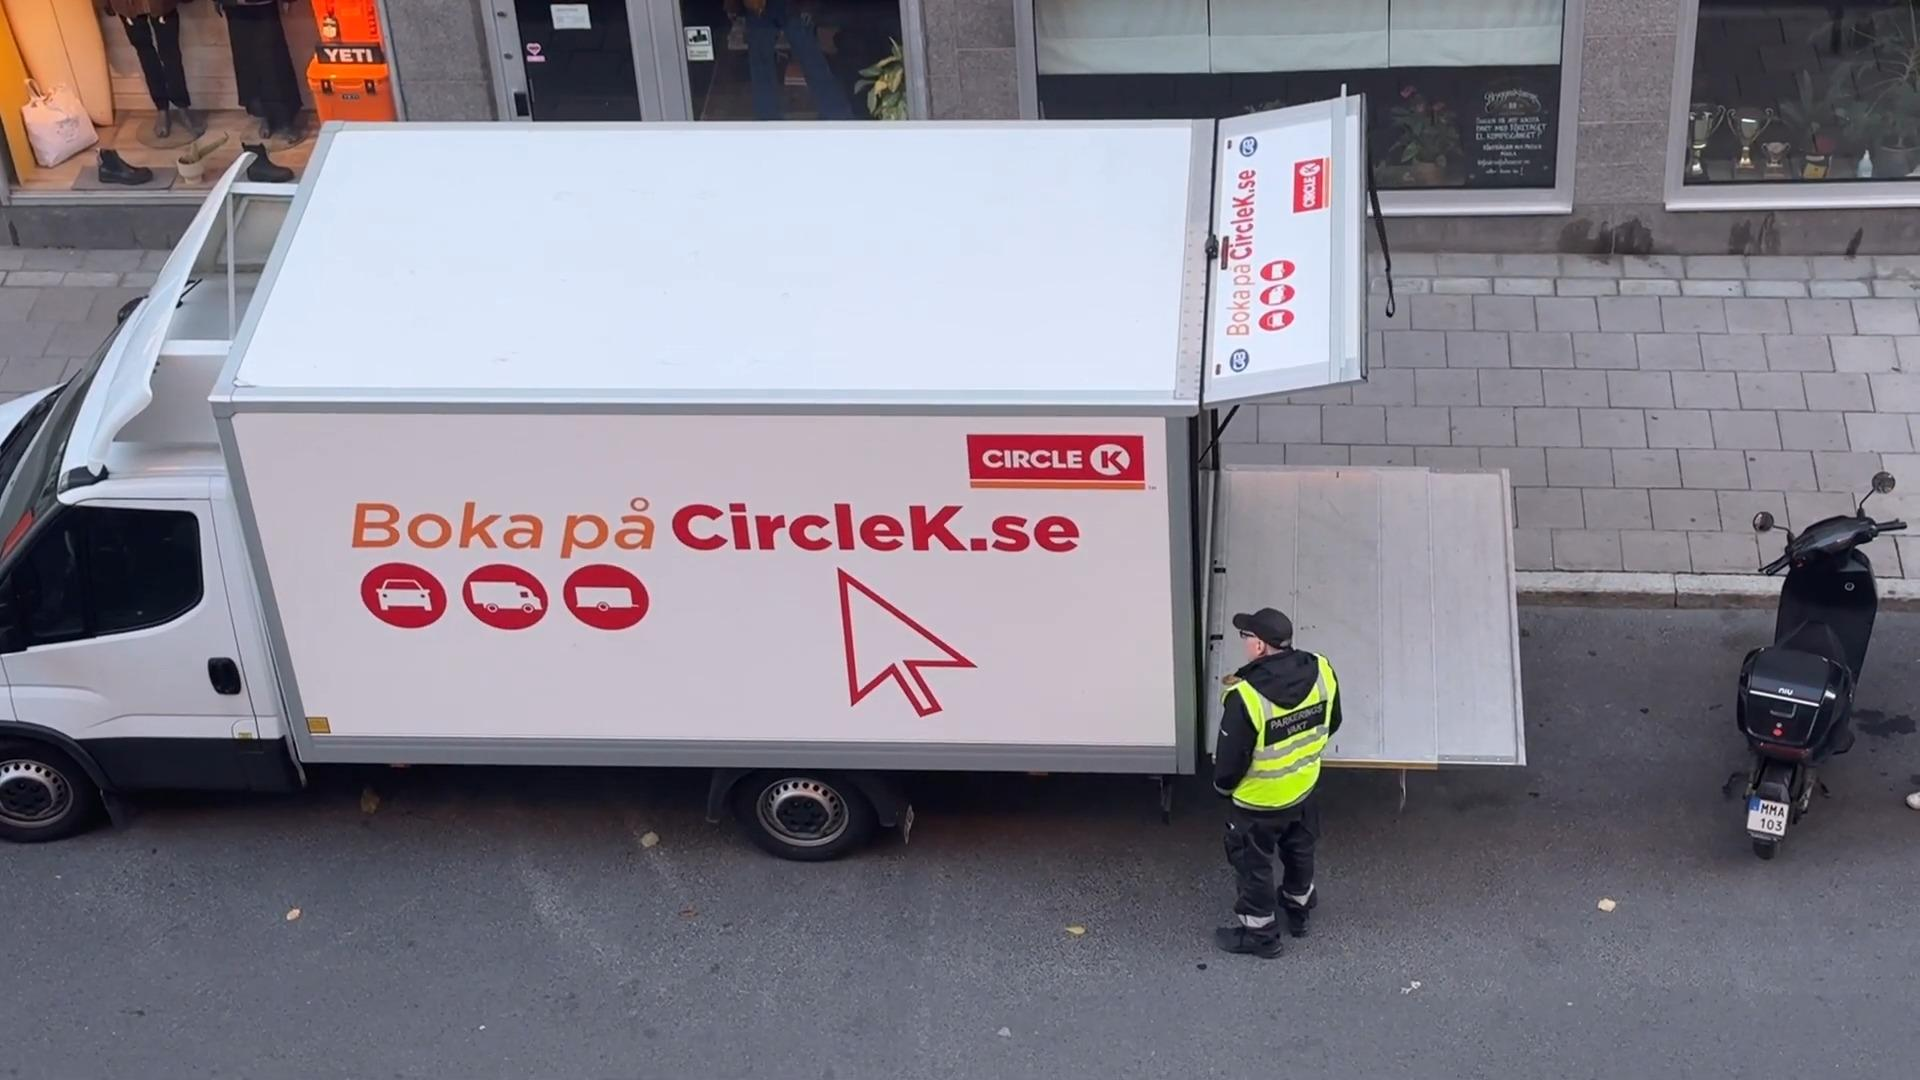parking-attendant: (1215, 608, 1340, 957)
